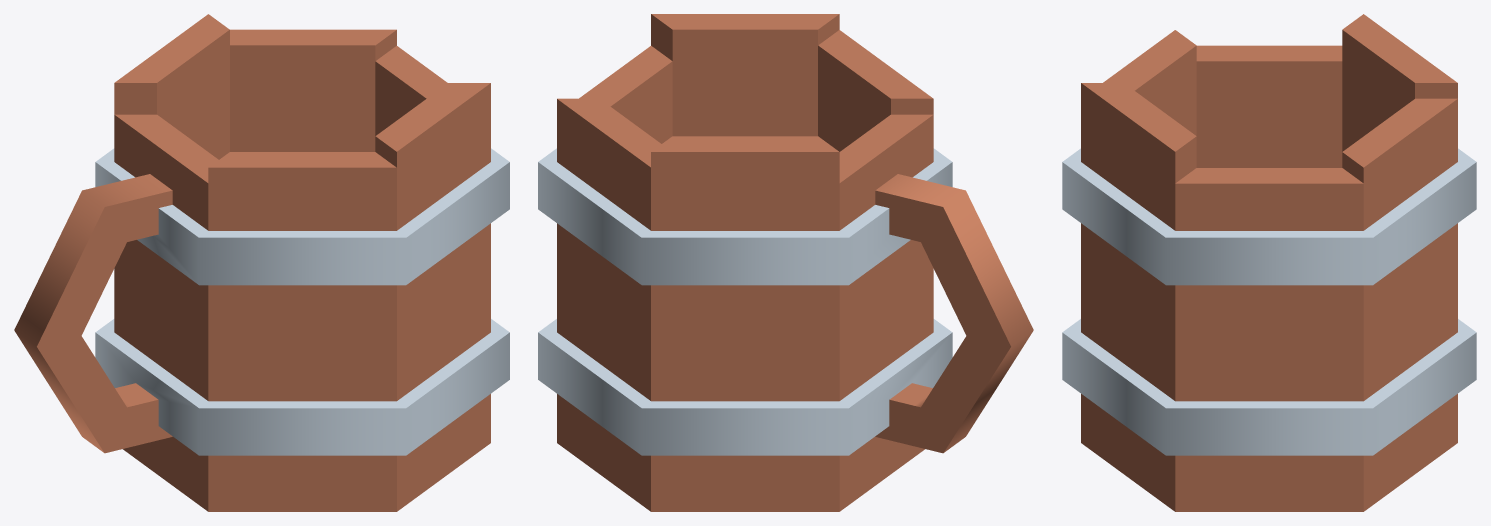
Rendered from mug.dae.
The picture shows the model from 3 angles, left to right: view 1: azimuth 30°, elevation 25°; view 2: azimuth 150°, elevation 25°; view 3: azimuth 270°, elevation 25°; orthographic projection.
Visible parts, largest first — view 1: mug; view 2: mug; view 3: mug.
Part boxes in pixels (bbox=[...]): mug: bbox=[14, 14, 509, 511]; mug: bbox=[538, 14, 1033, 511]; mug: bbox=[1062, 14, 1476, 511].
Size of the model in its own units: 0.3437 by 0.2734 by 0.2851.
